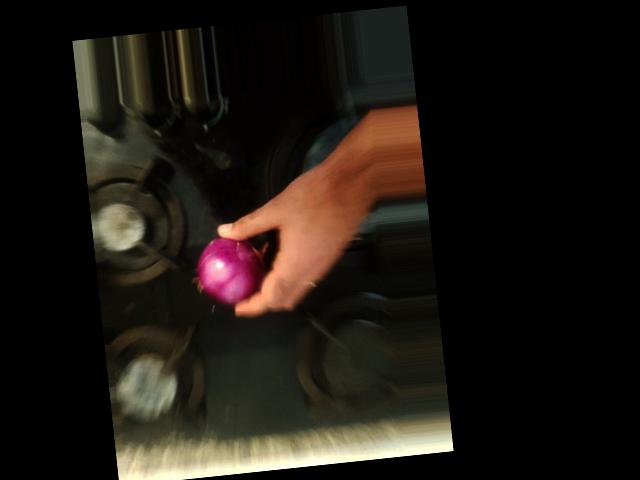onion: (195, 212, 282, 305)
